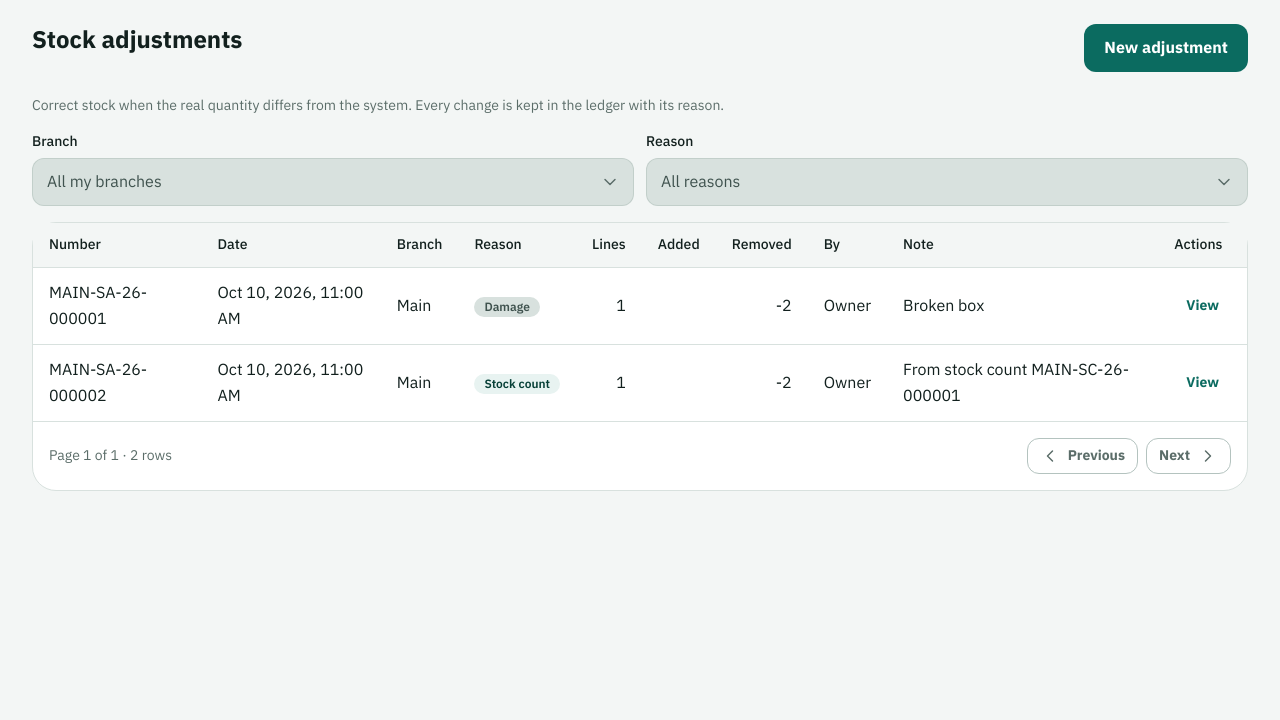
I02 adjustments page › filters by reason and opens the lines
Select "Stock count" in the dropdown labelled "Reason". click: (947, 182)
box: [646, 158, 1248, 206]
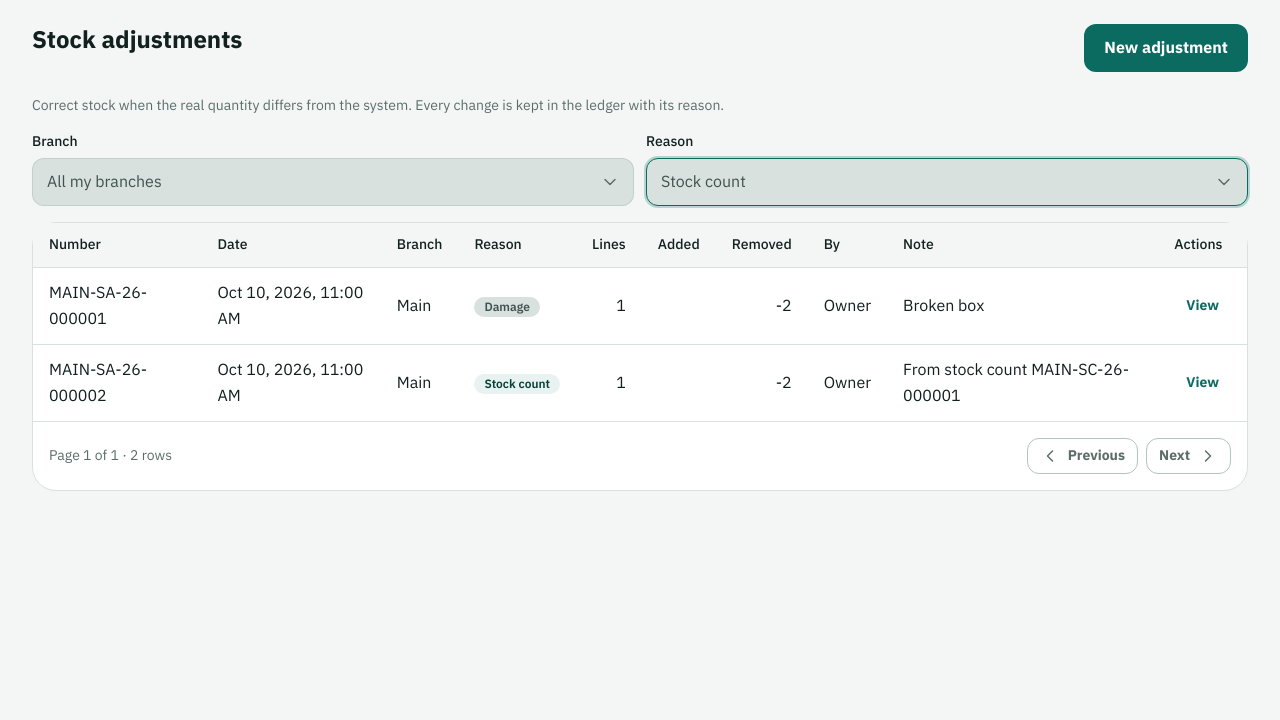
Click the button "View" in the row of "MAIN-SA-26-000001". click: (1203, 306)
box: [1174, 288, 1231, 324]
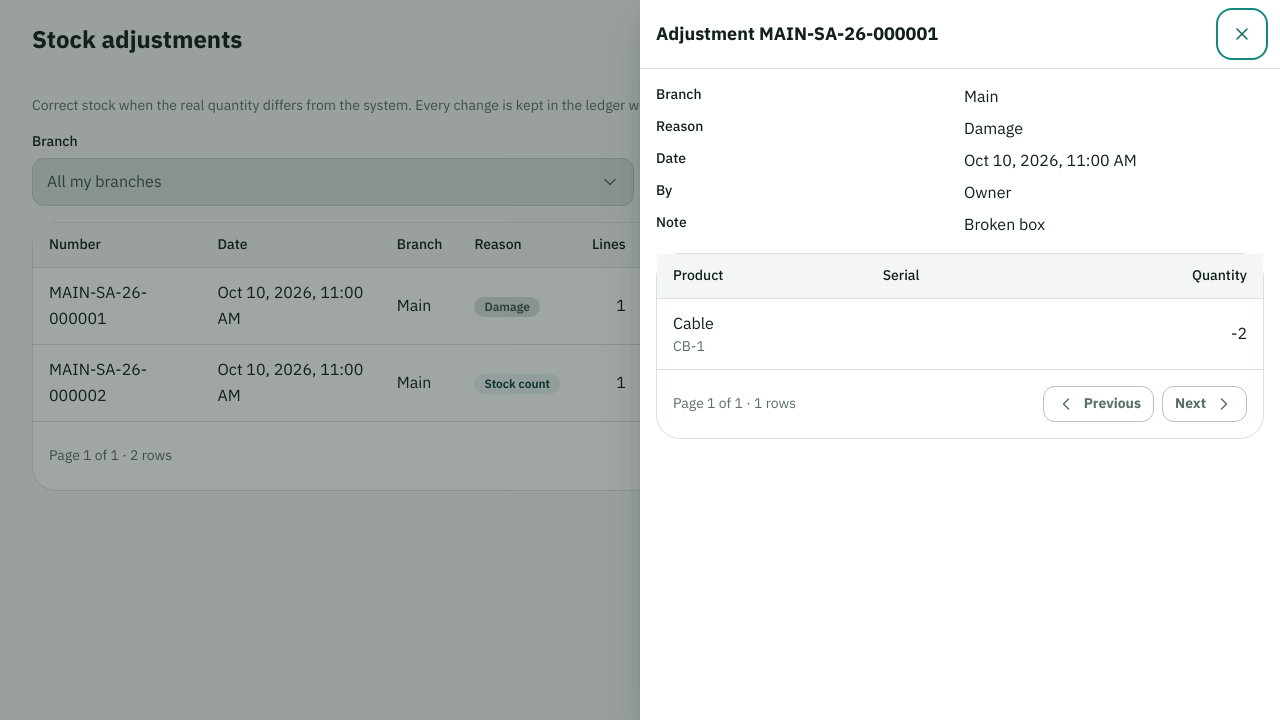
Expected: the text "Cable" is shown, [673, 312, 714, 336]
Expected: the text "-2" is shown, [1231, 321, 1247, 347]
